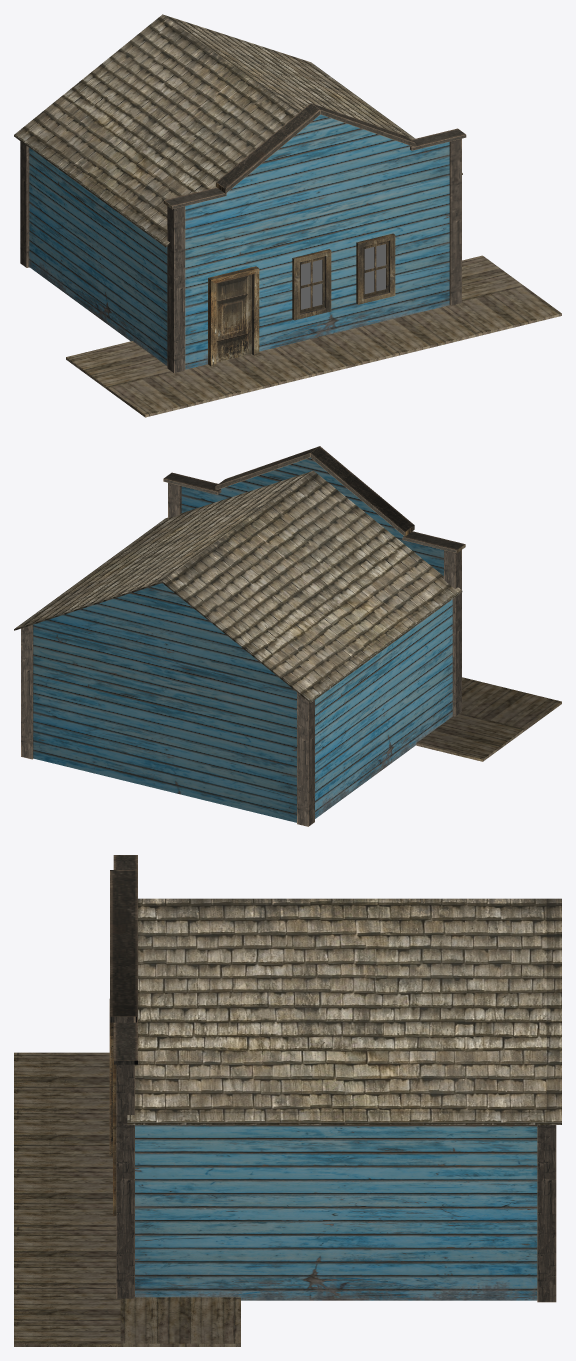
File: Building5_LOD1.FBX
3 renders of one model, top to bottom at view 1: azimuth 30°, elevation 25°; view 2: azimuth 150°, elevation 25°; view 3: azimuth 270°, elevation 25°, orthographic. The views are drawn at different scales.
Parts seen in each view (by area): view 1: roof, building, glass; view 2: roof, building; view 3: roof, building.
Part boxes in pixels (left/top/right/bottom): roof: left=14, top=14, right=462, bottom=369; building: left=20, top=103, right=561, bottom=417; glass: left=301, top=244, right=385, bottom=309; roof: left=14, top=457, right=462, bottom=822; building: left=21, top=446, right=561, bottom=826; roof: left=127, top=898, right=561, bottom=1300; building: left=14, top=855, right=556, bottom=1346.
Size of the model in its own units: 405 by 216 by 323.
